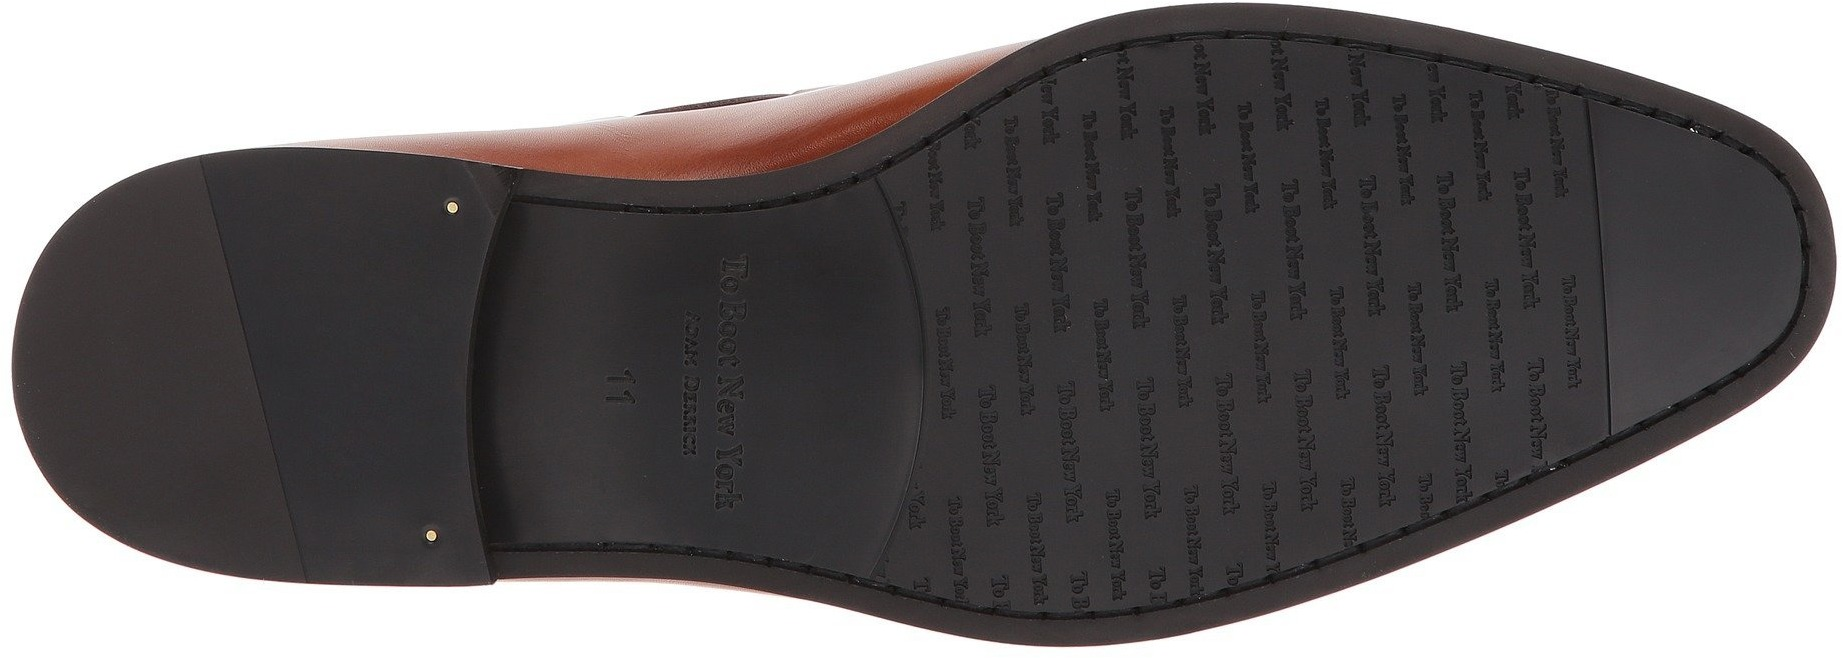other: (249, 224, 460, 437), (41, 271, 226, 455), (1610, 164, 1781, 329), (294, 442, 416, 559)
text: (945, 318, 1167, 537), (1101, 59, 1331, 267), (1184, 284, 1390, 498), (1354, 78, 1532, 254), (905, 143, 1095, 304), (1412, 261, 1576, 441), (1179, 502, 1271, 587)
